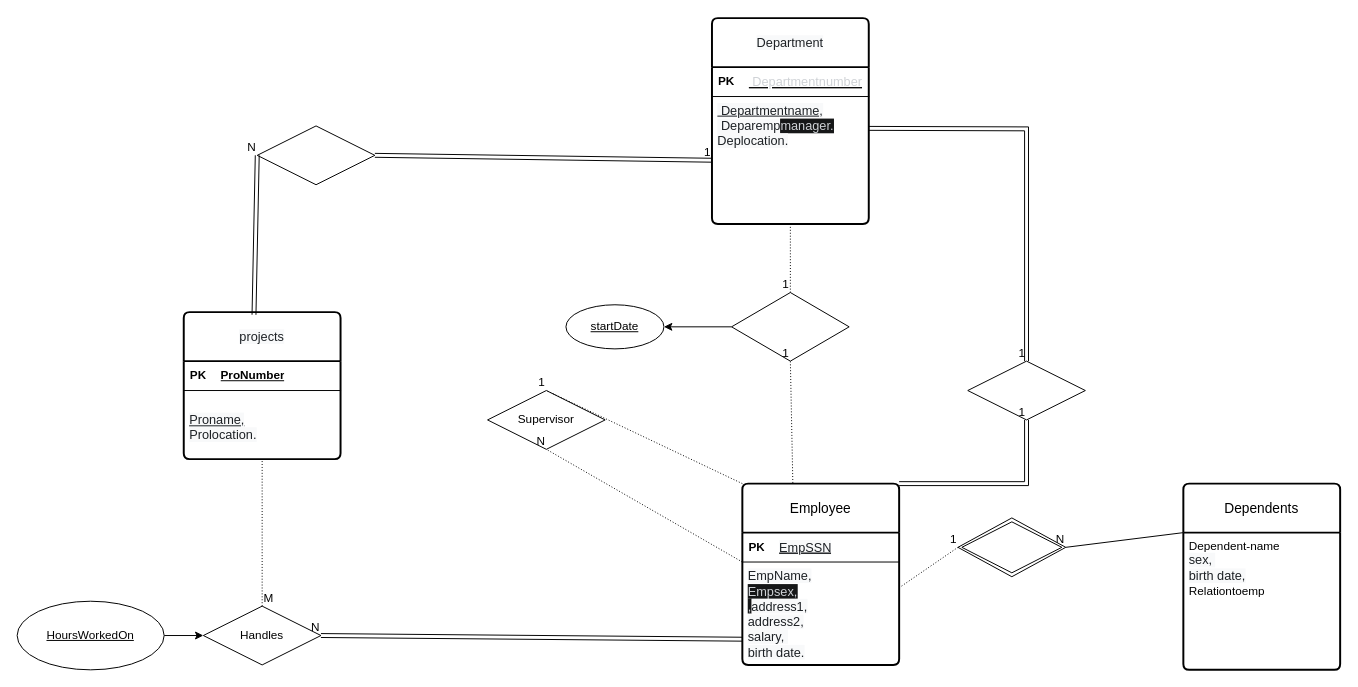
This 1358x687 diagram has some shape labels left out. The centre of each missing label's shape, as x and y in pixels:
Controls: (x=315, y=155)
DependentsOf: (x=1011, y=547)
manages: (x=790, y=326)
Worksfor: (x=1026, y=390)
